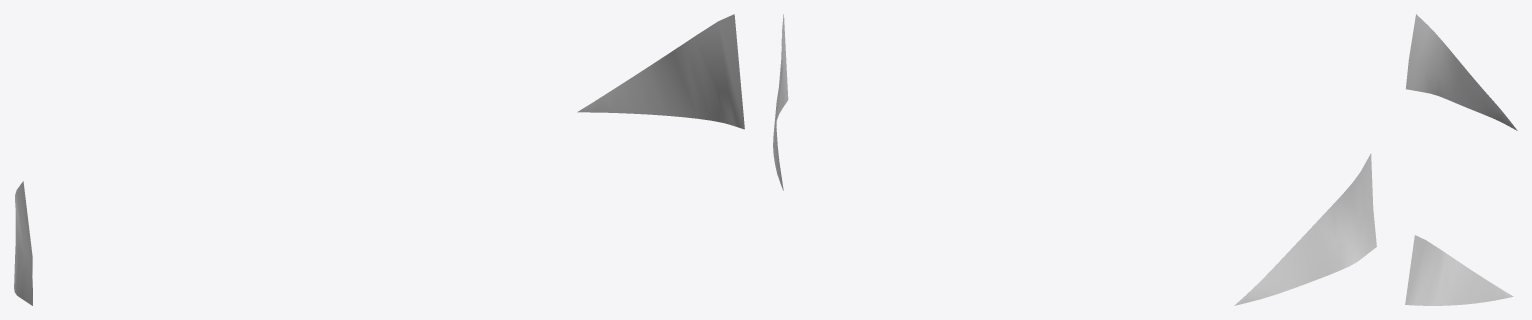
File: Jac_Flic_BOTTOM_BACK.glb
3 renders of one model, left to right at view 1: azimuth 30°, elevation 25°; view 2: azimuth 150°, elevation 25°; view 3: azimuth 270°, elevation 25°, orthographic. The views are drawn at different scales.
Visible parts, largest first — view 1: Jac_Flic_BOTTOM_BACK.001; view 2: Jac_Flic_BOTTOM_BACK.001; view 3: Jac_Flic_BOTTOM_BACK.001.
Part boxes in pixels (x1=…): Jac_Flic_BOTTOM_BACK.001: x1=14, y1=14, x2=744, y2=305; Jac_Flic_BOTTOM_BACK.001: x1=773, y1=14, x2=1376, y2=305; Jac_Flic_BOTTOM_BACK.001: x1=1405, y1=14, x2=1517, y2=305.
Size of the model in its own units: 0.65 by 0.1266 by 0.1419.
Materials: 1 (1 with a texture image).
